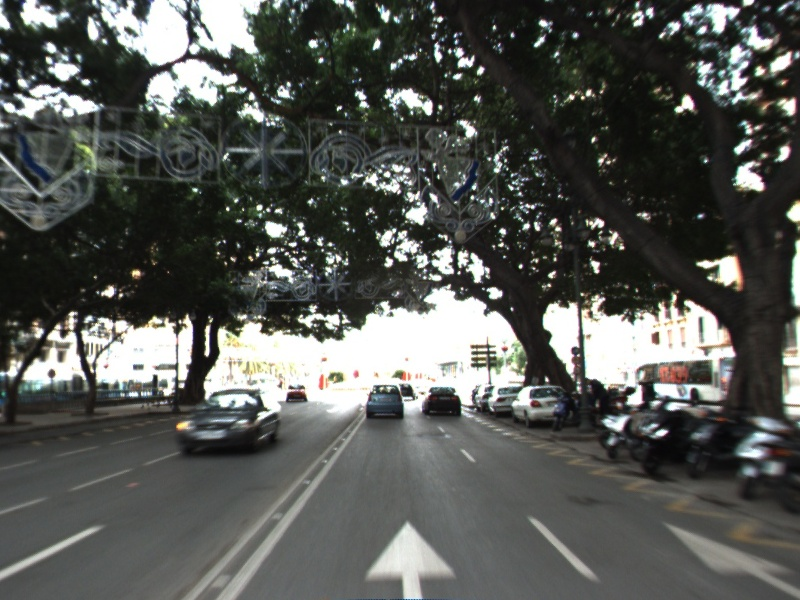STRAIGHT: (660, 518, 800, 599), (361, 516, 461, 600)
